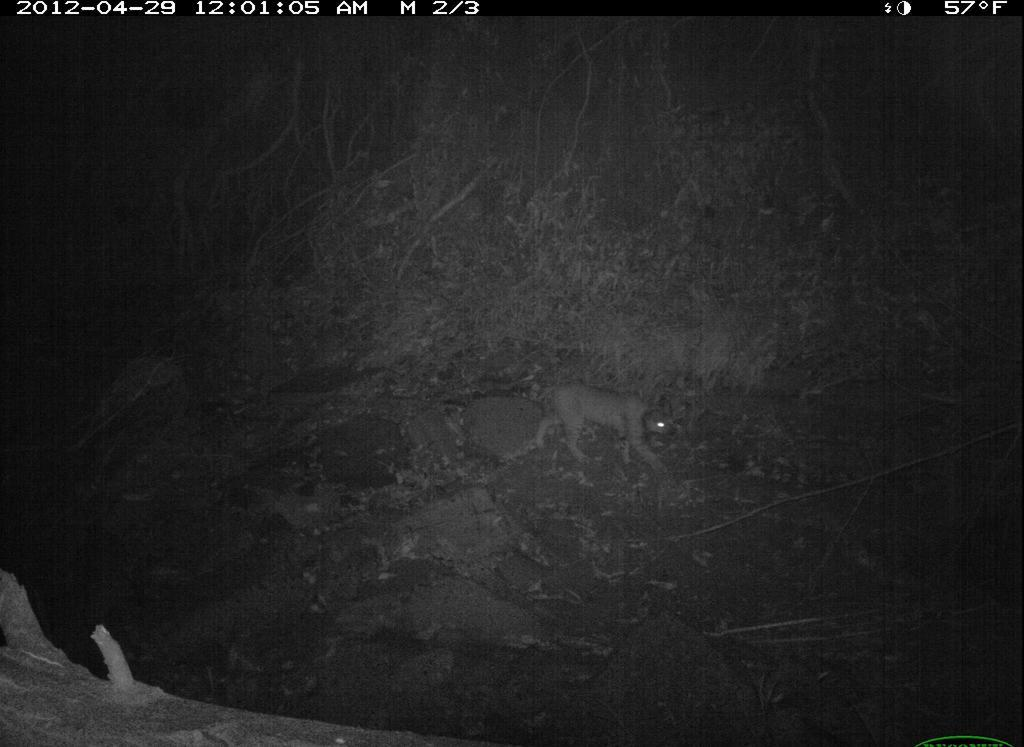bobcat: (534, 379, 685, 481)
